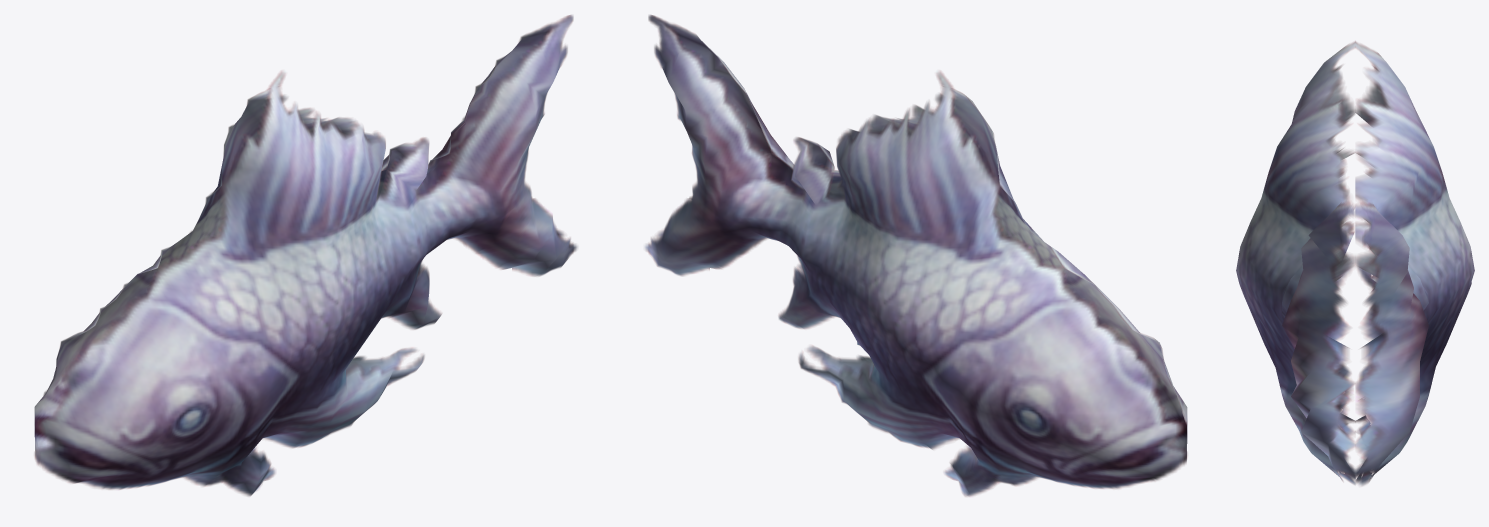
Rendered from fish_moonkoi.glb.
The picture shows the model from 3 angles, left to right: view 1: azimuth 30°, elevation 25°; view 2: azimuth 150°, elevation 25°; view 3: azimuth 270°, elevation 25°; orthographic projection. The views are drawn at different scales.
Parts seen in each view (by area): view 1: fish_moonkoi; view 2: fish_moonkoi; view 3: fish_moonkoi.
Part boxes in pixels (x1,y1,x2,y2): fish_moonkoi: [34, 15, 577, 496]; fish_moonkoi: [644, 15, 1187, 496]; fish_moonkoi: [1236, 41, 1474, 485].
Size of the model in its own units: 0.45 by 0.3212 by 0.1416.
1 material, 1 textured.
